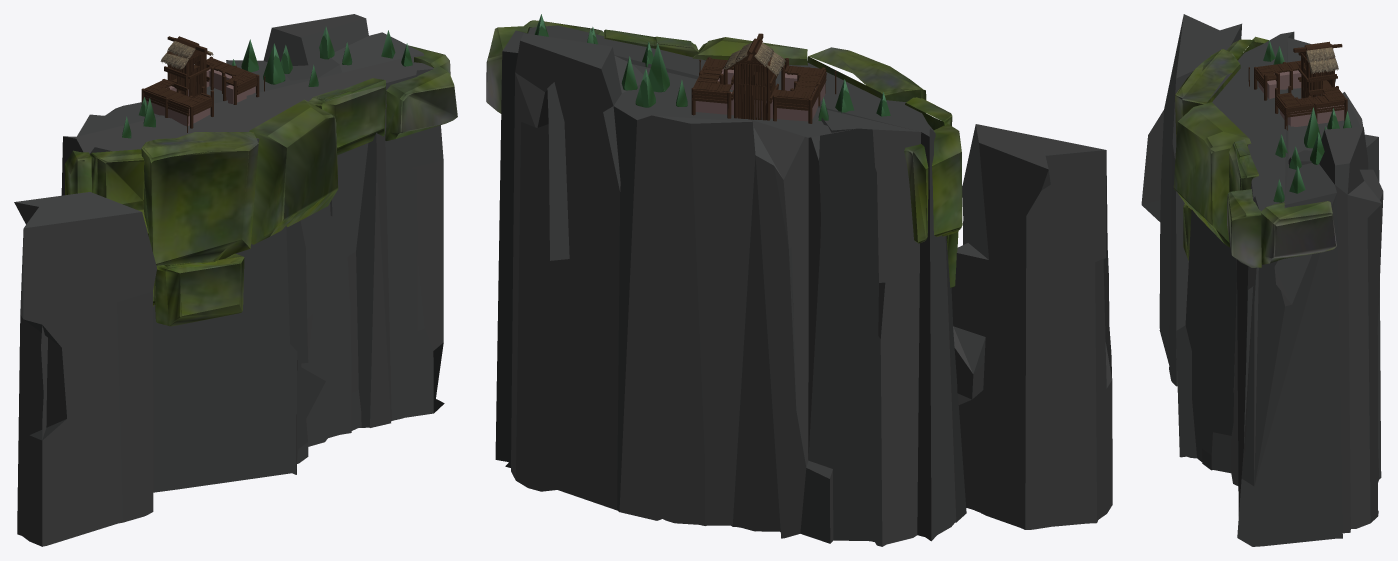
Rendered from barracks.glb.
The picture shows the model from 3 angles, left to right: view 1: azimuth 30°, elevation 25°; view 2: azimuth 150°, elevation 25°; view 3: azimuth 270°, elevation 25°; orthographic projection. The views are drawn at different scales.
Parts seen in each view (by area): view 1: barracks; view 2: barracks; view 3: barracks.
Boxes of the visible parts, box(x1,y1,x2,y2) form: barracks: box(14, 14, 457, 546); barracks: box(486, 14, 1112, 546); barracks: box(1141, 14, 1383, 546).
Size of the model in its own units: 3.38 by 2.69 by 1.5.
Materials: 6 (3 with a texture image).
